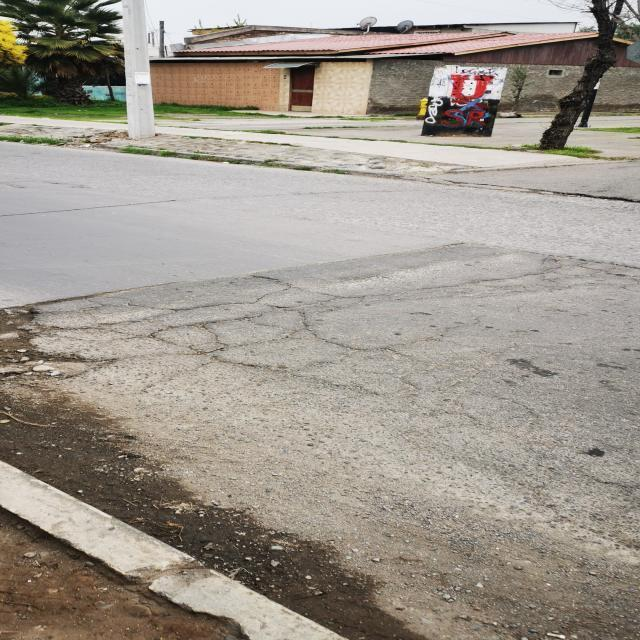PARCHE: (262, 243, 556, 297)
PIEL DE COCODRILO: (0, 258, 639, 565)
